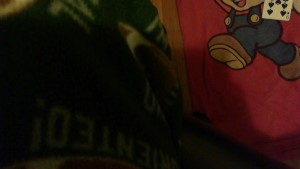NineOfSpades: (260, 1, 294, 21)
